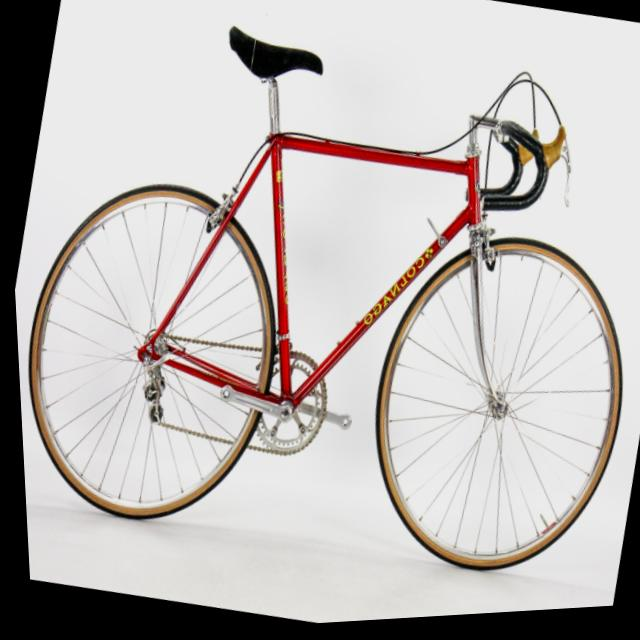road-bike: (0, 0, 640, 630)
